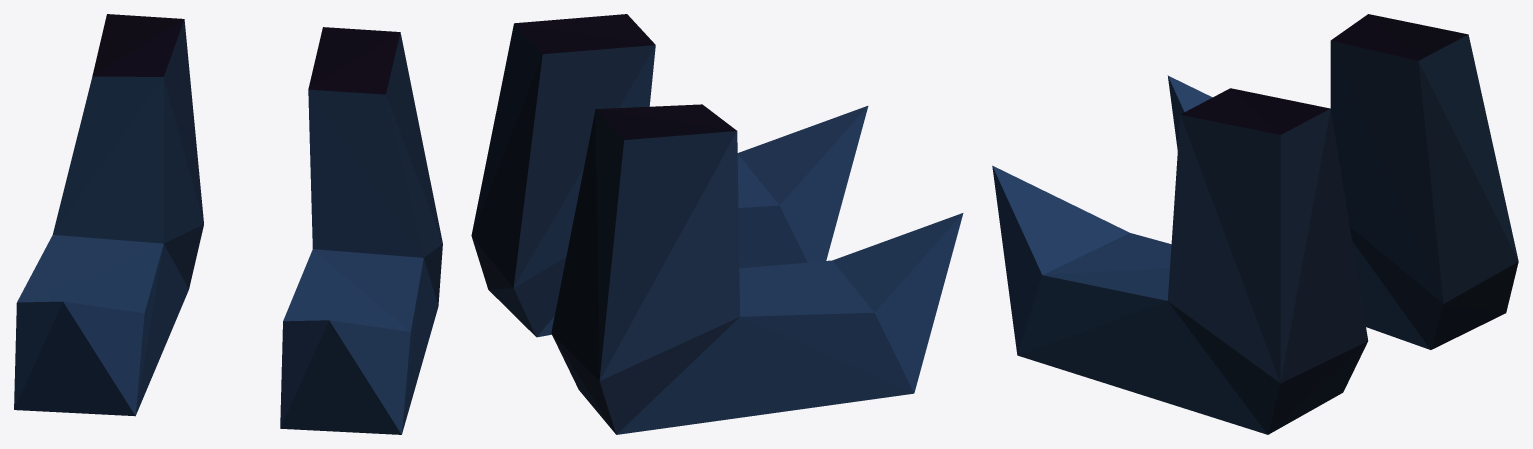
Rendered from mystic-boots.obj.
The picture shows the model from 3 angles, left to right: view 1: azimuth 30°, elevation 25°; view 2: azimuth 150°, elevation 25°; view 3: azimuth 270°, elevation 25°; orthographic projection. The views are drawn at different scales.
Parts seen in each view (by area): view 1: Item Mystic boots 2026-09-24_18-00-21; view 2: Item Mystic boots 2026-09-24_18-00-21; view 3: Item Mystic boots 2026-09-24_18-00-21.
Part boxes in pixels (x1,y1,x2,y2): Item Mystic boots 2026-09-24_18-00-21: [14, 14, 442, 434]; Item Mystic boots 2026-09-24_18-00-21: [471, 14, 963, 434]; Item Mystic boots 2026-09-24_18-00-21: [992, 14, 1518, 434].
Size of the model in its own units: 41 by 25 by 42.
